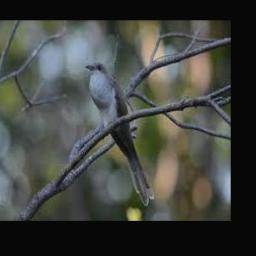Cuckoo: (84, 61, 154, 205)
